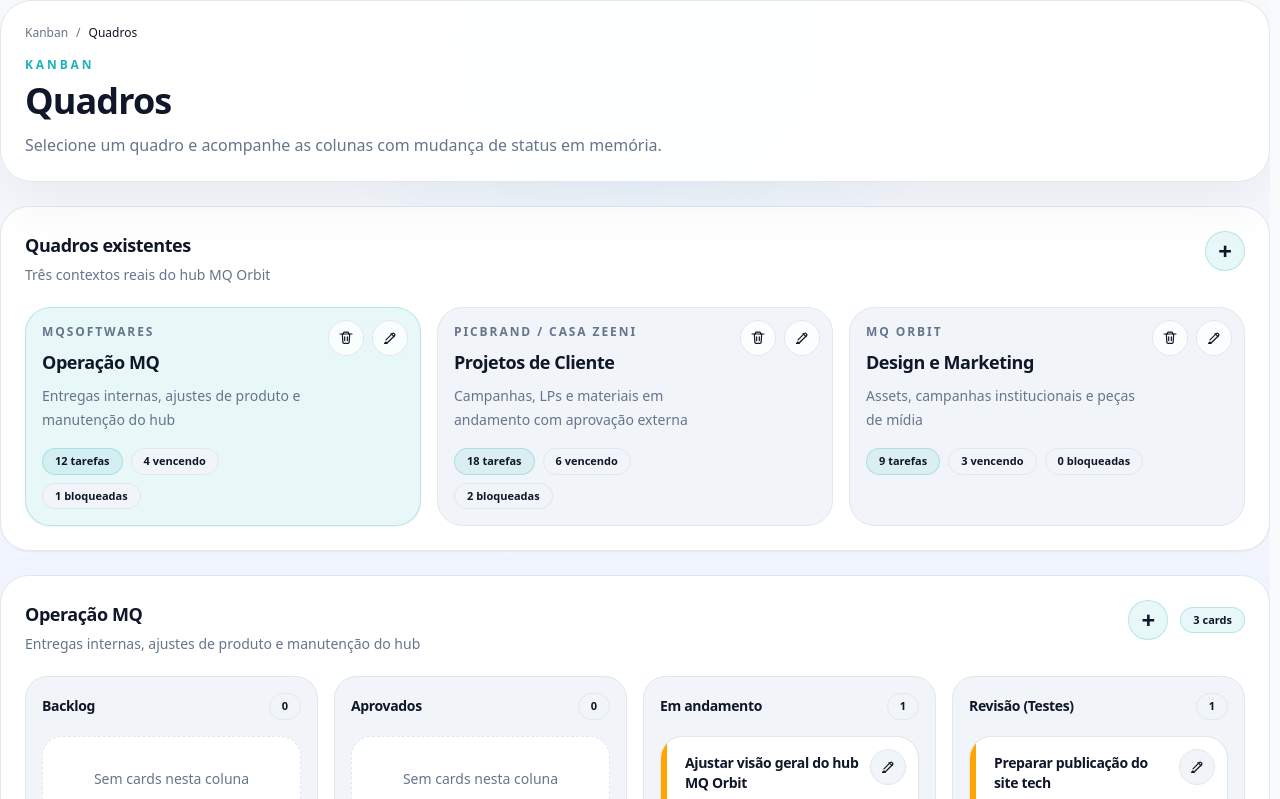
MQ Orbit MVP modules › edits a card through the floating editor
Expected: the text "Ajustar visão geral do hub MQ Orbit" is shown, [685,752,858,792]
Click the button named "Editar card Ajustar visão geral do hub MQ Orbit" at {"x": 888, "y": 766}, box [870,748,906,784]
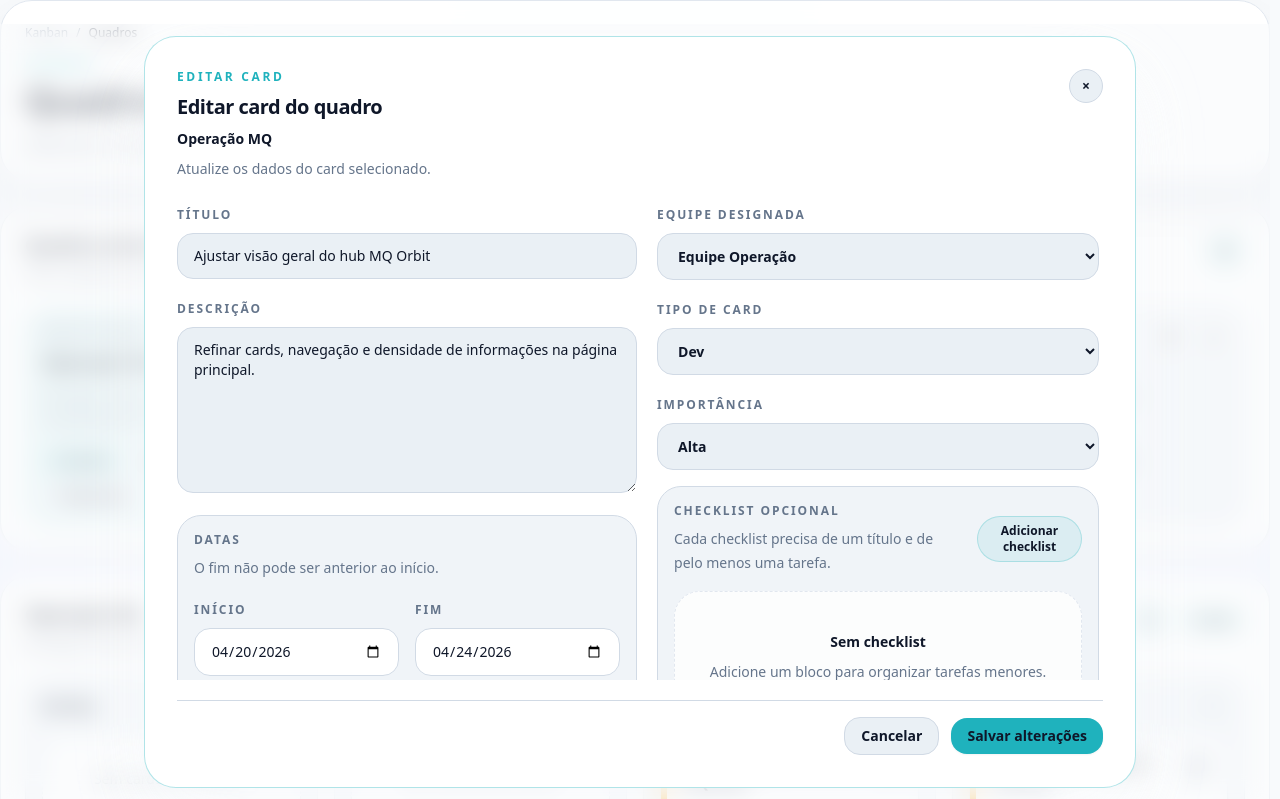
Replace the text in the field labelled "Título" with "Ajustar visão geral do hub MQ Orbit - atualizado" at {"x": 407, "y": 256}, box [177,233,637,279]
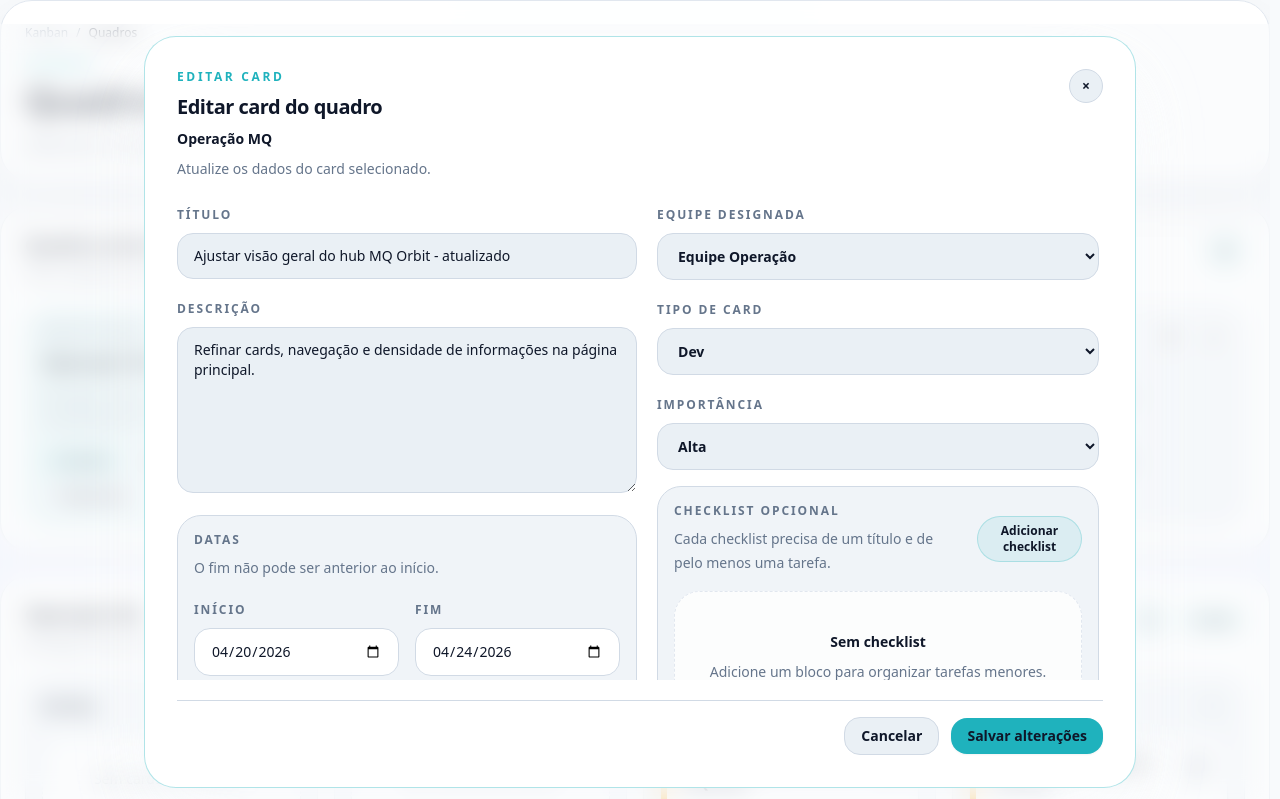
Click the button named "Fechar edição de card" at {"x": 1086, "y": 86}, box [1069,69,1103,103]
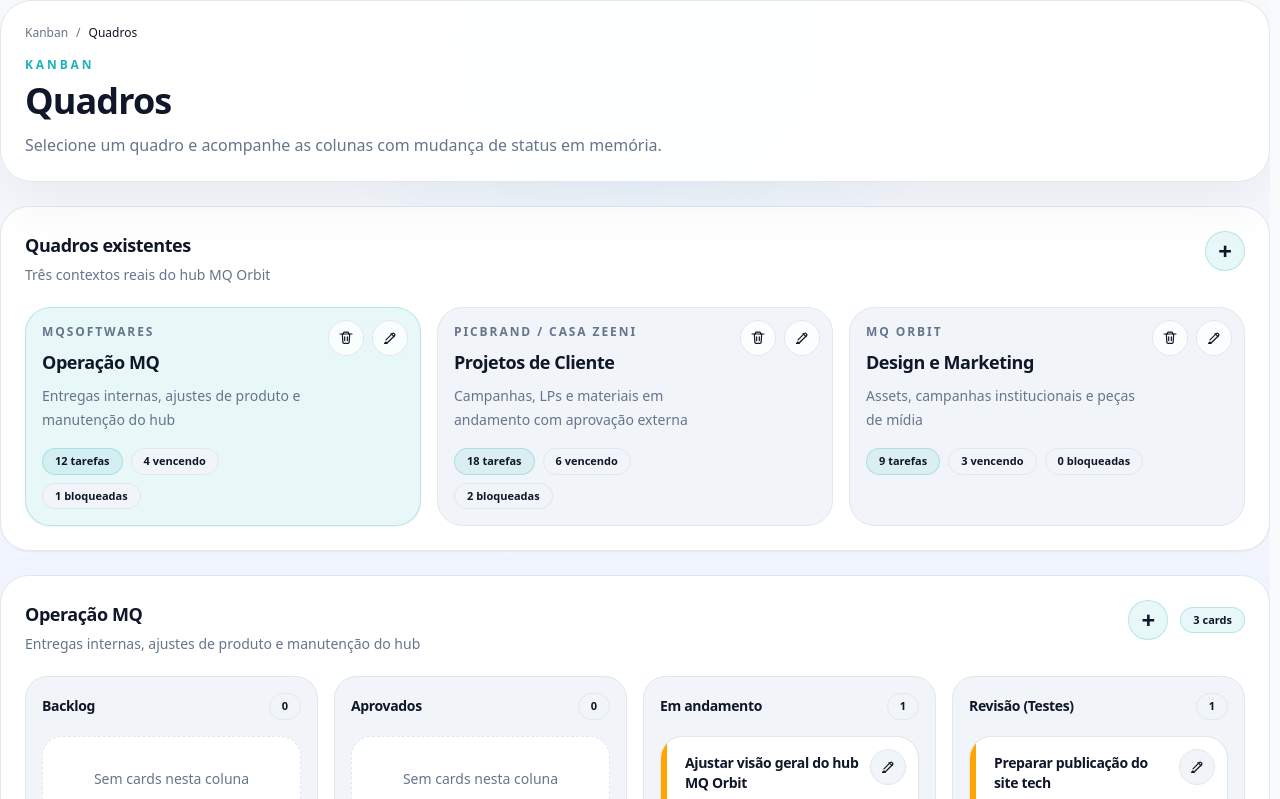
Expected: the heading "Editar card do quadro" is gone
